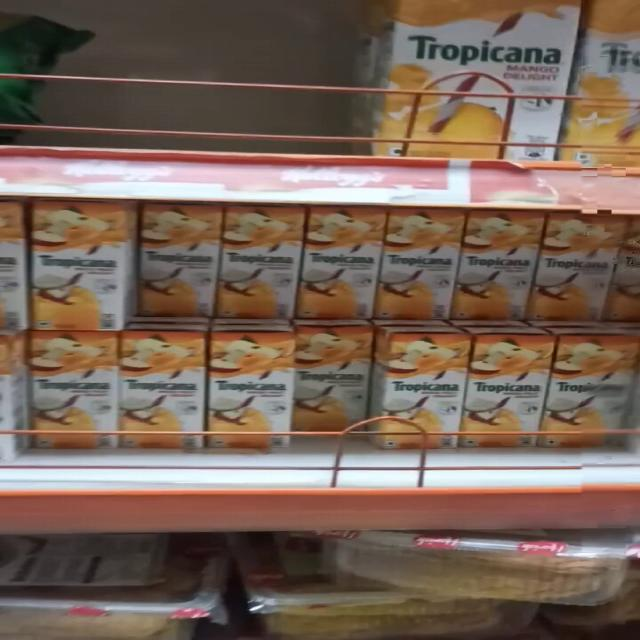Tropicana: (30, 191, 124, 329), (197, 328, 286, 454), (29, 331, 112, 454), (108, 330, 190, 452), (555, 332, 640, 448), (213, 195, 290, 322), (382, 329, 460, 452), (295, 196, 373, 318), (289, 326, 370, 442), (125, 194, 201, 316), (472, 331, 546, 452), (384, 200, 454, 318), (546, 205, 618, 318), (464, 201, 532, 319)
